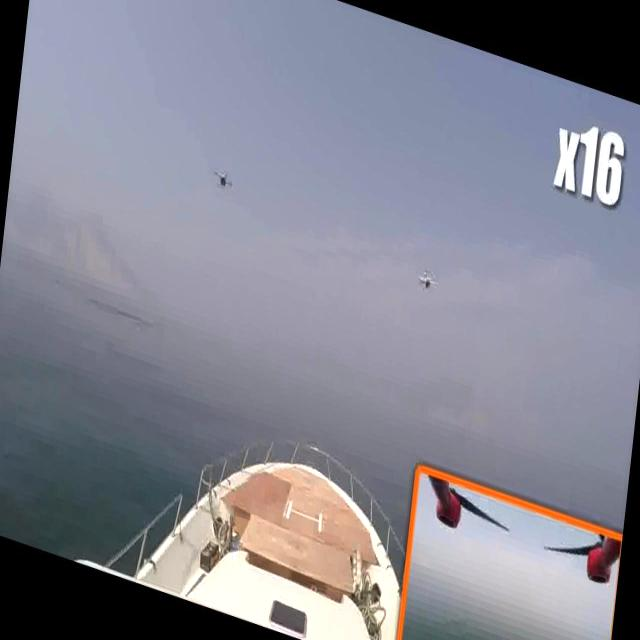drone: (413, 261, 440, 296), (214, 165, 234, 191)
